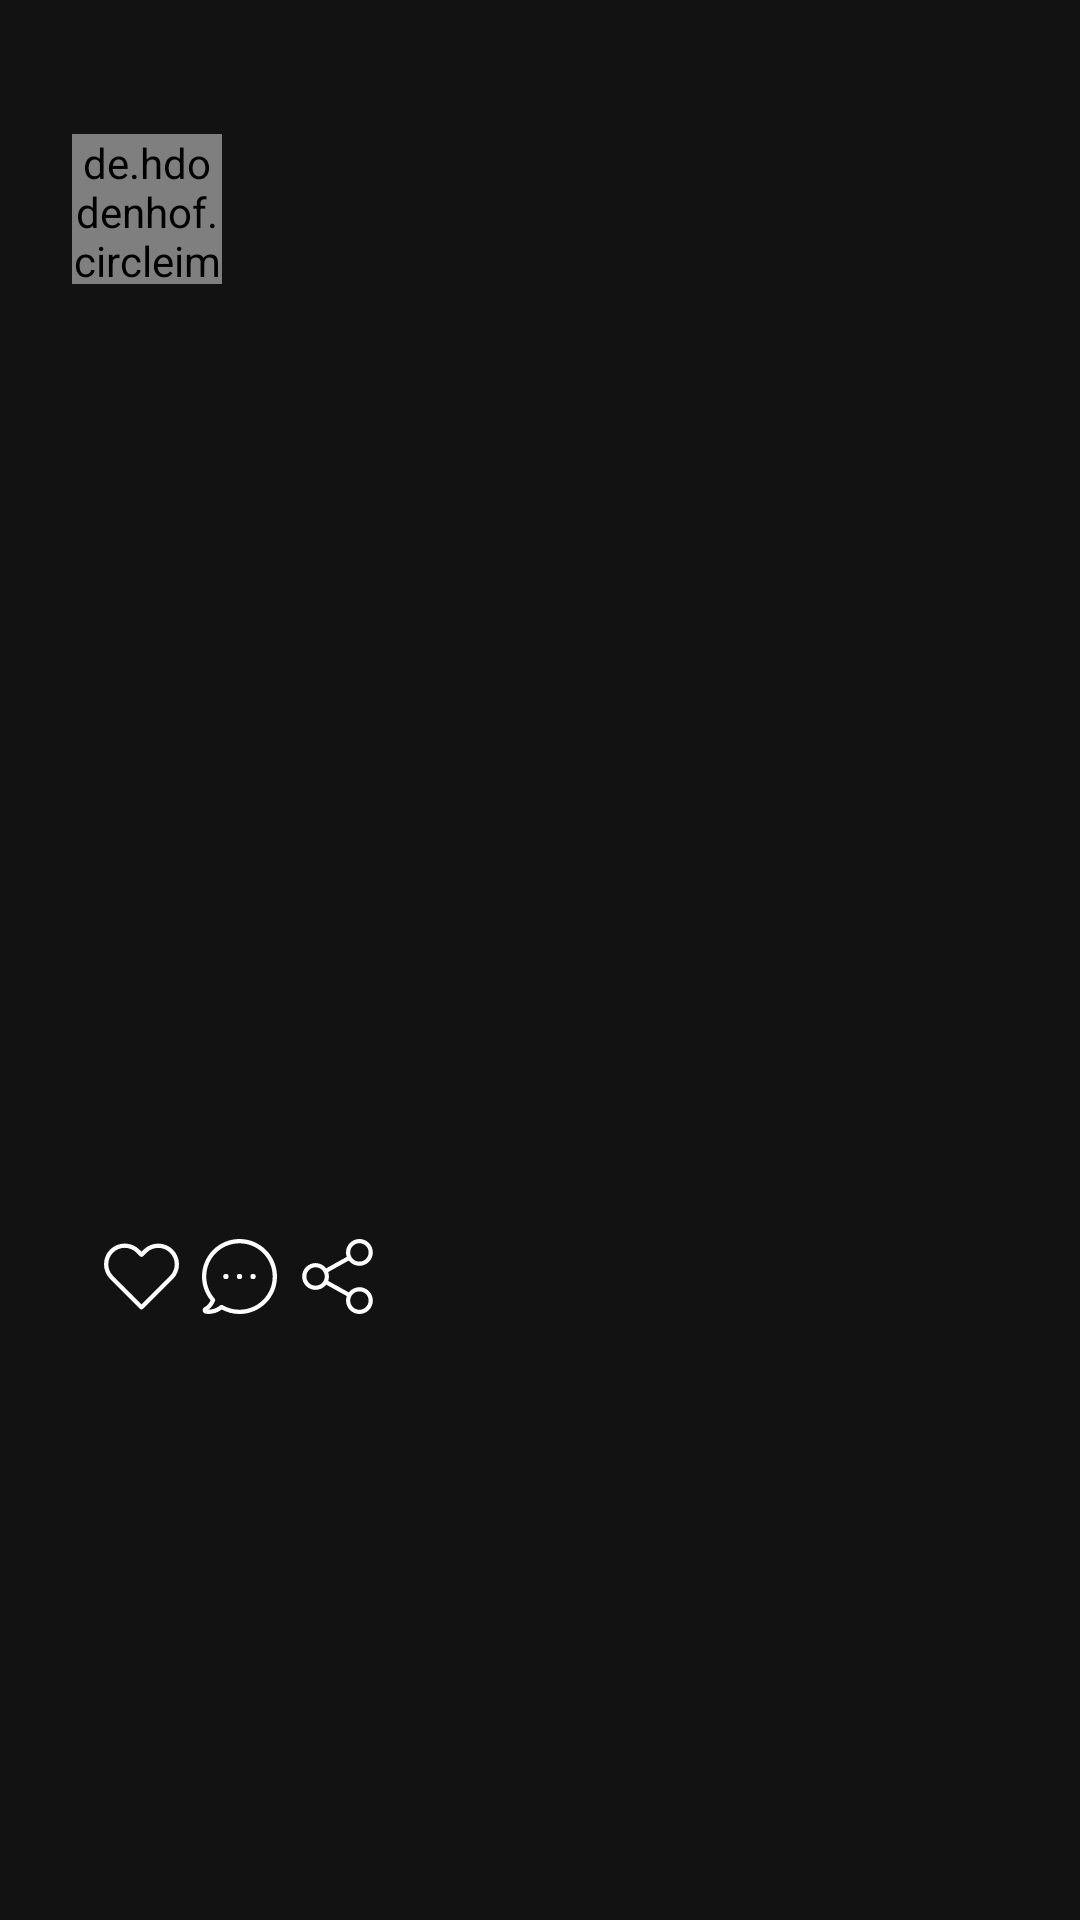

Icons on this 1080px x 1920px Android screen, each with its box as [x1,y1,x2,y2]:
comment: [202,1239,277,1314]
heart: [104,1243,179,1310]
share: [302,1239,373,1314]
